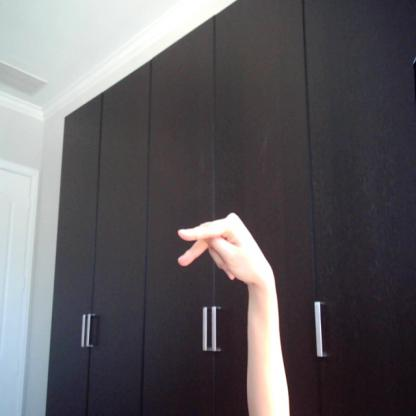P: (172, 210, 278, 290)
